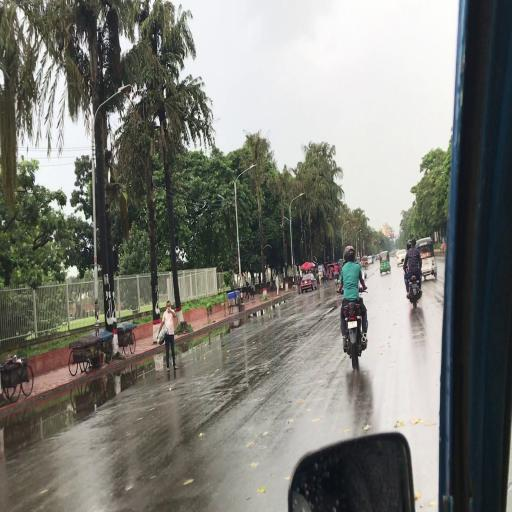car: (302, 274, 319, 294), (397, 249, 404, 266), (370, 256, 375, 265)
motorbike: (336, 275, 371, 371), (405, 241, 422, 310)
three wheelers (CNG): (422, 237, 439, 285), (379, 252, 393, 278)
wheelbarrow: (1, 355, 35, 404), (67, 337, 105, 378), (119, 321, 139, 358), (229, 292, 242, 314), (365, 256, 369, 269)
